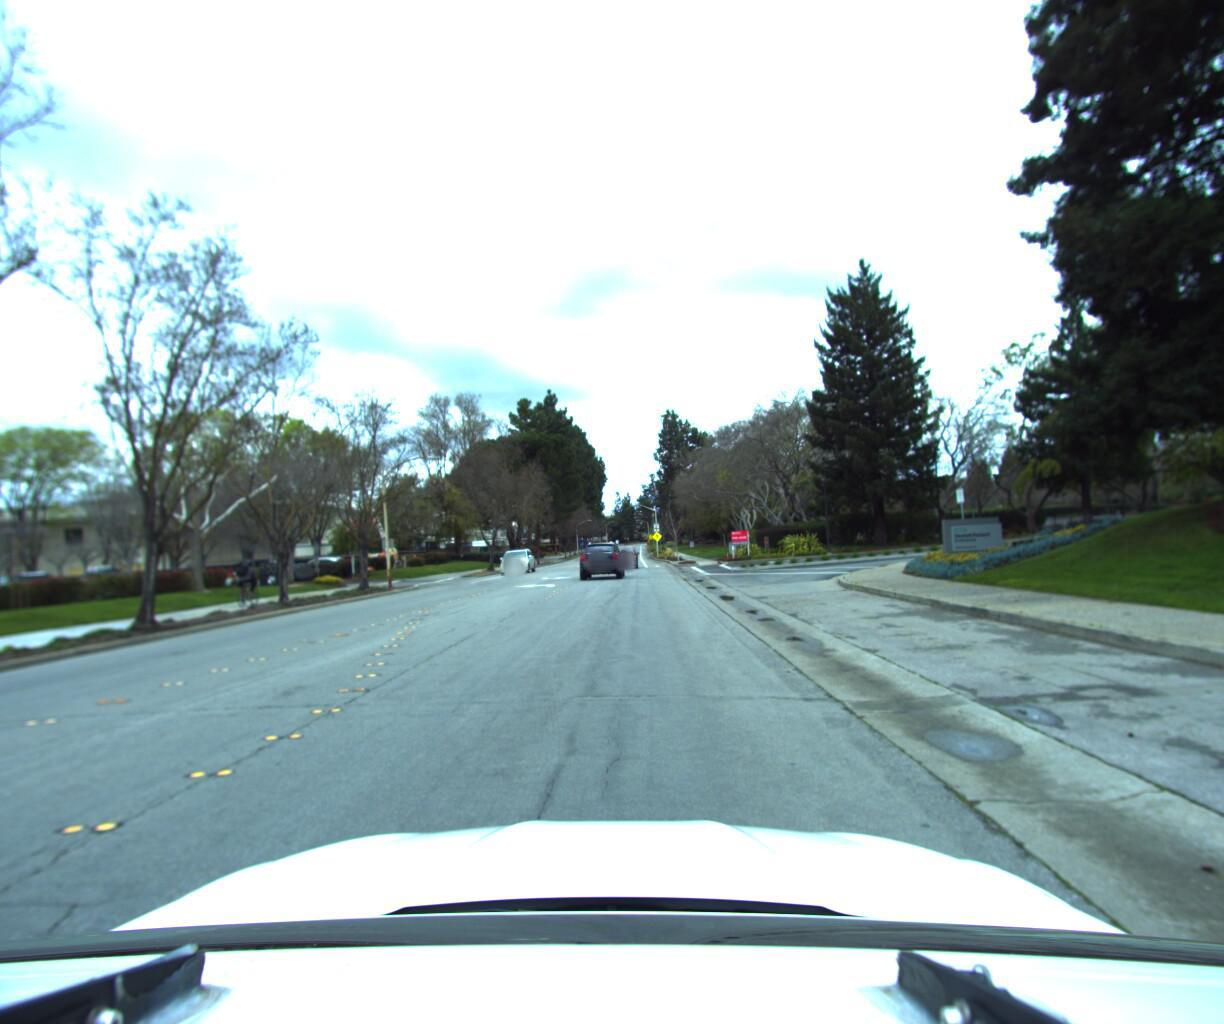bicycle: (230, 559, 271, 608)
car: (577, 533, 626, 573), (497, 545, 538, 573), (614, 539, 642, 564)
